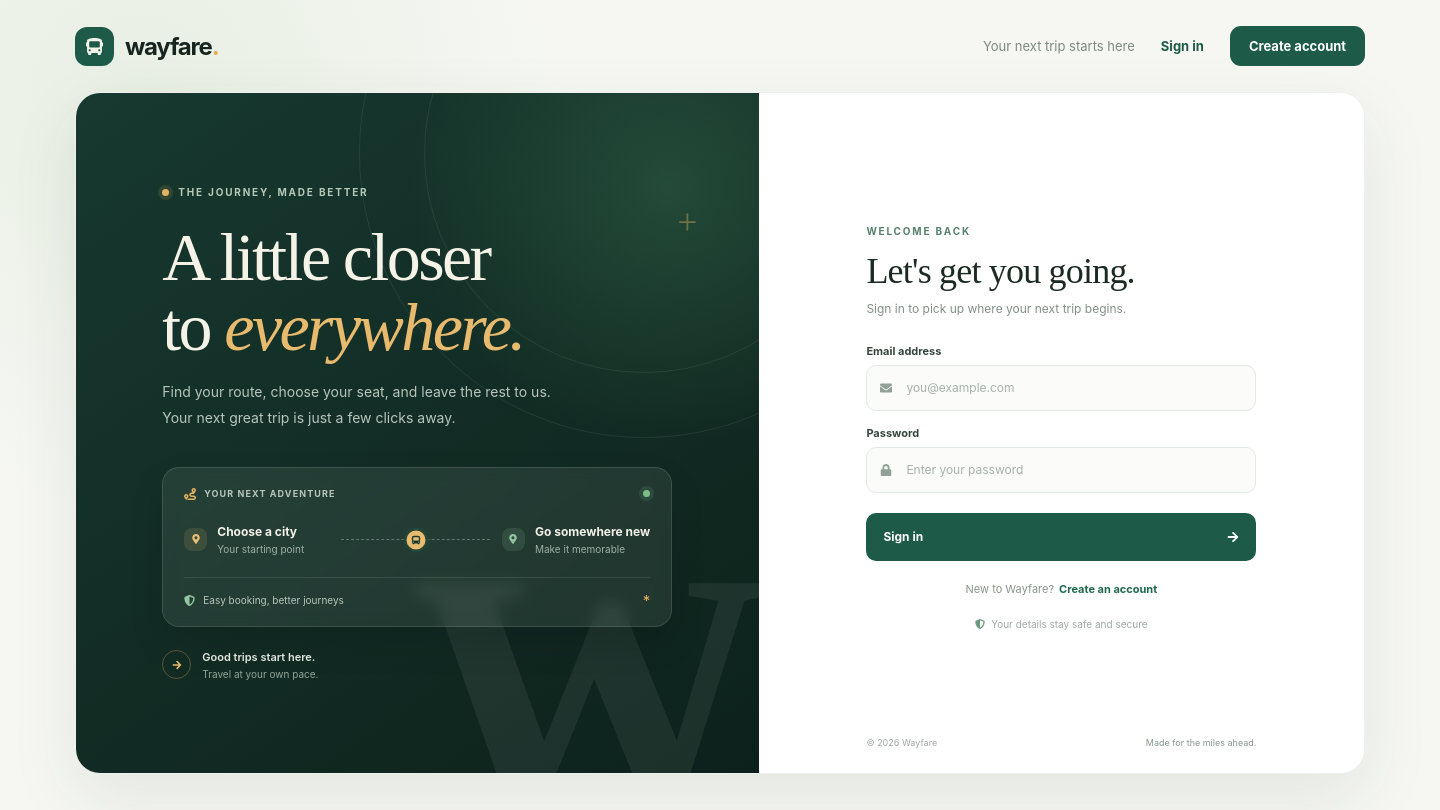
Test: shows the new sign-in page and opens registration
Expected: the heading "Let's get you going." is shown, [866,251,1135,291]
What coordinates should you click on to do the following:
click the button "Create account"
I would click on:
 (1298, 46)
Its box is [1230,26,1365,66].
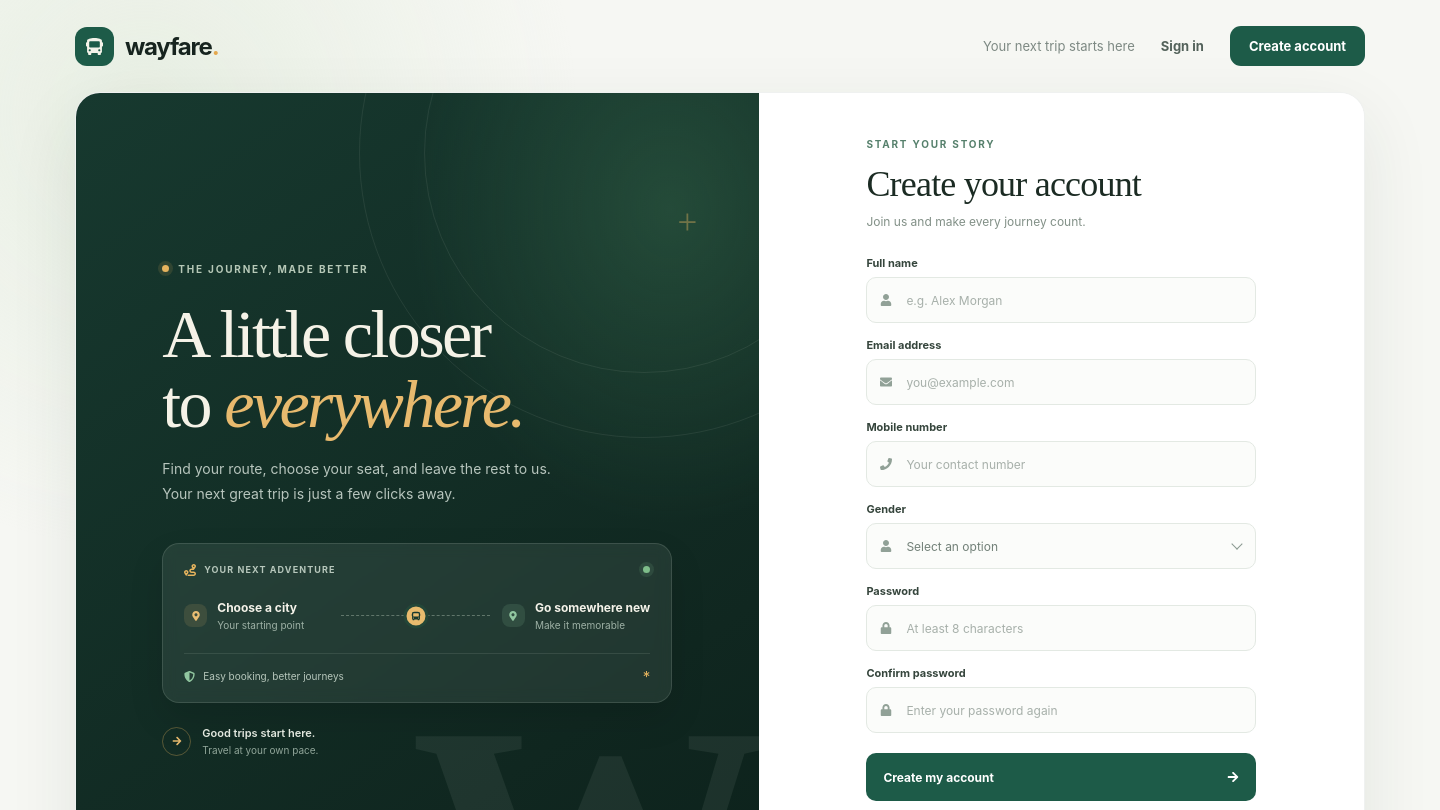
Now the field labelled "Full name" is shown, box [866,277,1256,323]
